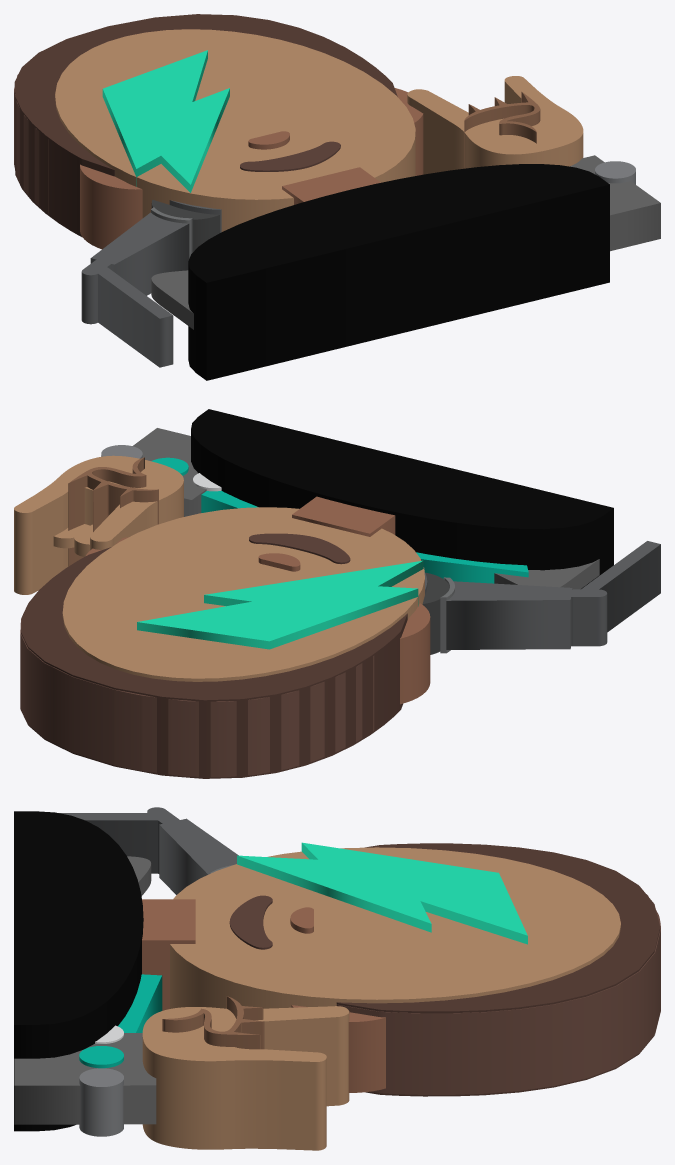
File: emoji_u1f468_1f3fd_200d_1f3a4.glb
3 renders of one model, top to bottom at view 1: azimuth 30°, elevation 25°; view 2: azimuth 150°, elevation 25°; view 3: azimuth 270°, elevation 25°, orthographic. The views are drawn at different scales.
Visible parts, largest first — view 1: emoji_u1f468_1f3fd_200d_1f3a4; view 2: emoji_u1f468_1f3fd_200d_1f3a4; view 3: emoji_u1f468_1f3fd_200d_1f3a4.
Boxes of the visible parts, <box> form: emoji_u1f468_1f3fd_200d_1f3a4: <box>14,14,660,380</box>; emoji_u1f468_1f3fd_200d_1f3a4: <box>14,409,660,778</box>; emoji_u1f468_1f3fd_200d_1f3a4: <box>14,807,660,1150</box>.
Bounding box in the file's own units: 0.0337 × 0.0064 × 0.0331.
